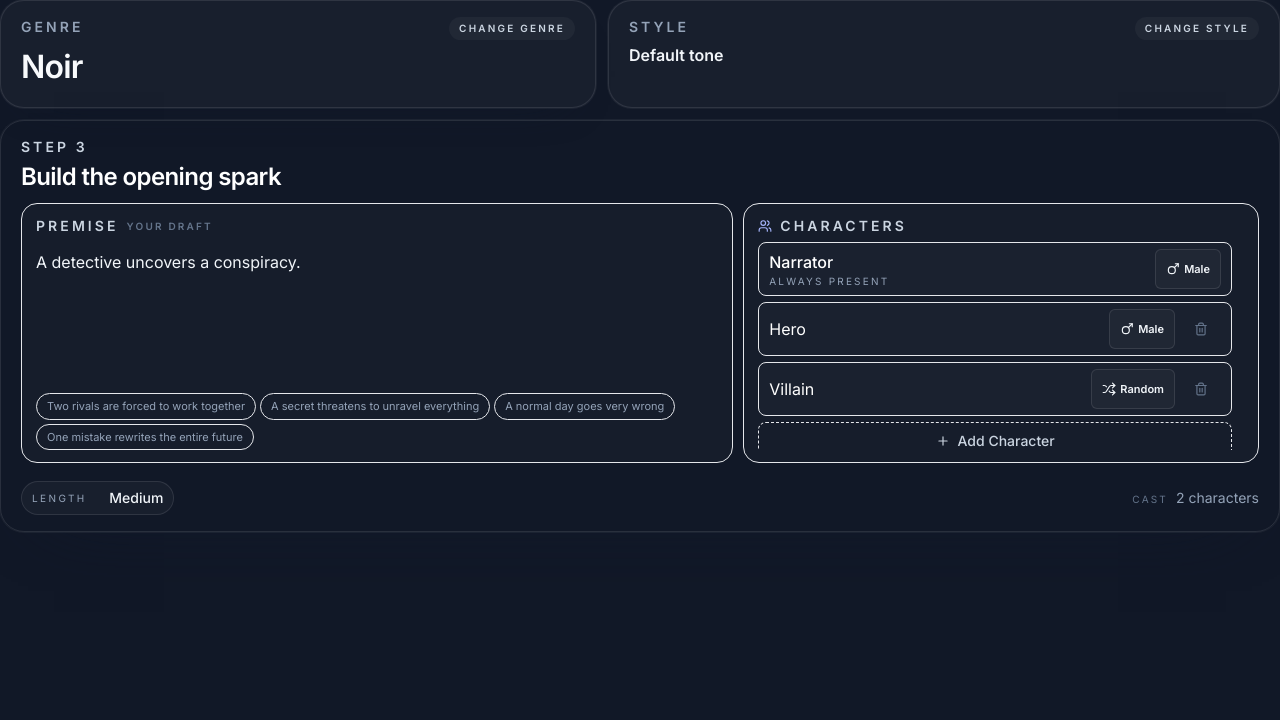
Test case: SetupForm submit validation › cycles character preference male -> female -> random
Click the button with test id "setup-character-preference-0" at (1142, 329), box left=1109, top=309, right=1175, bottom=349
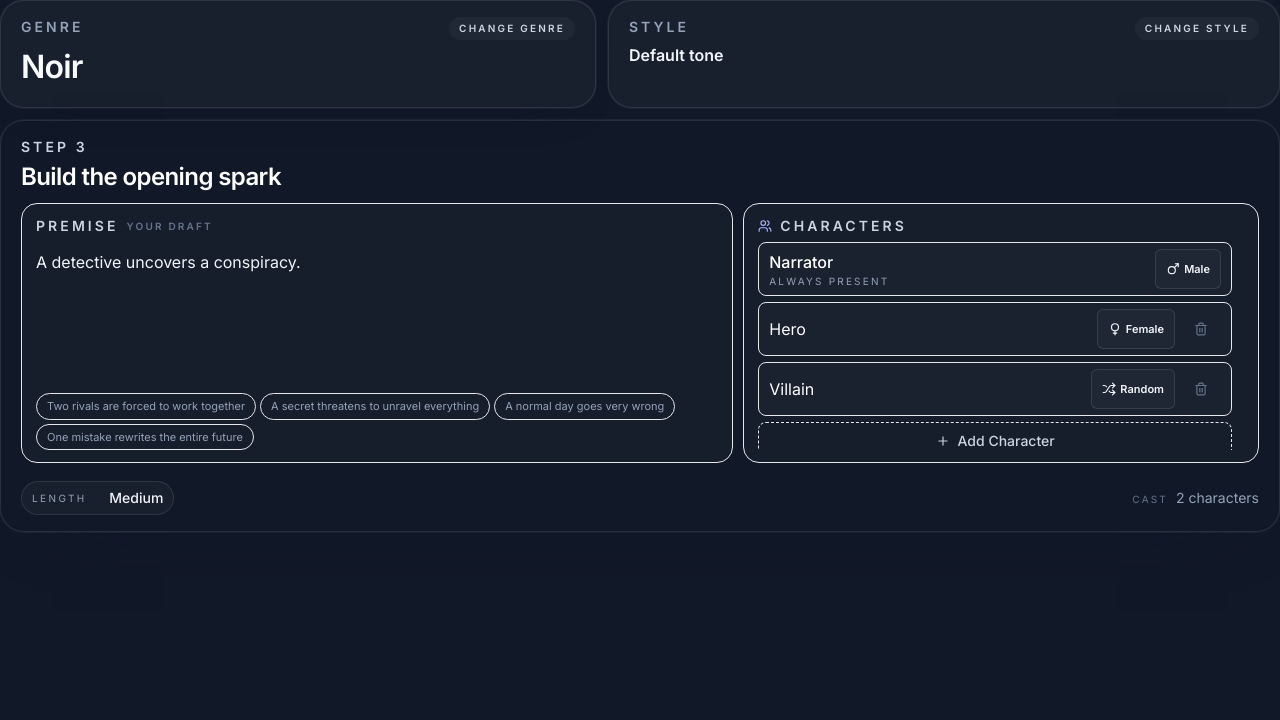
Result: the button with test id "setup-character-preference-0" reads "Female"
Click the button with test id "setup-character-preference-0" at (1136, 329), box left=1097, top=309, right=1175, bottom=349
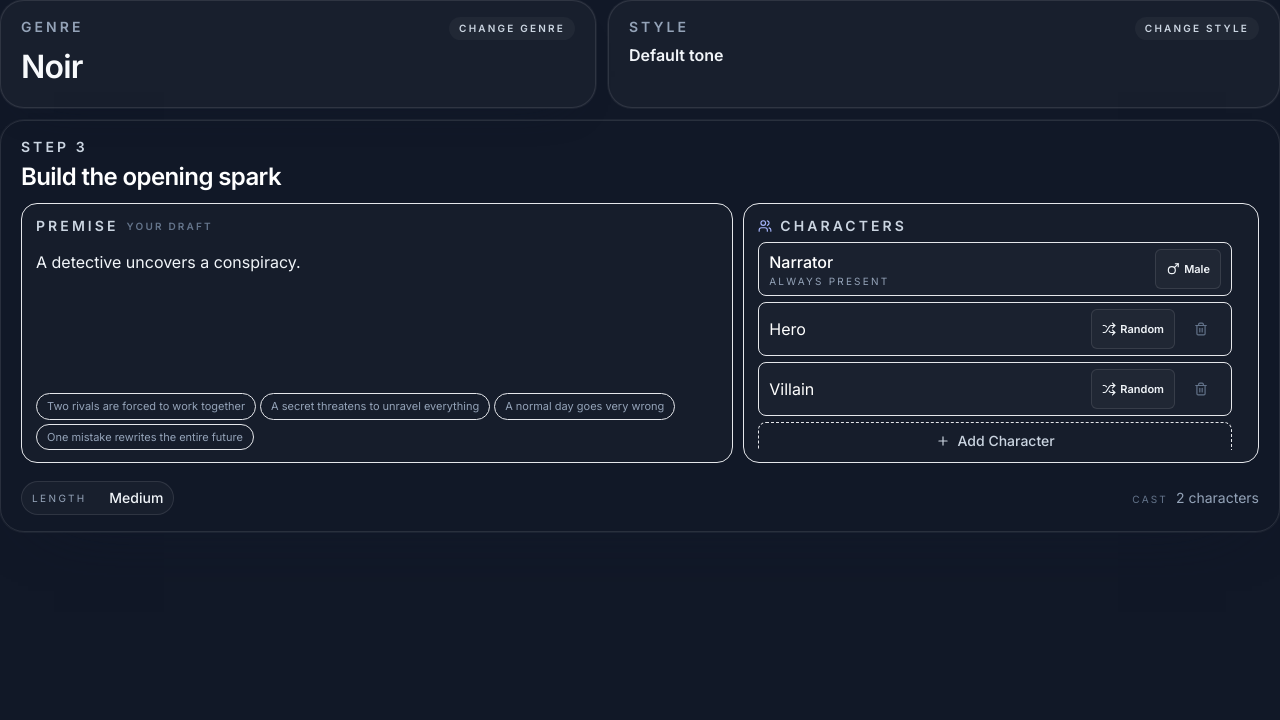
Result: the button with test id "setup-character-preference-0" reads "Random" at left=1091, top=309, right=1175, bottom=349
